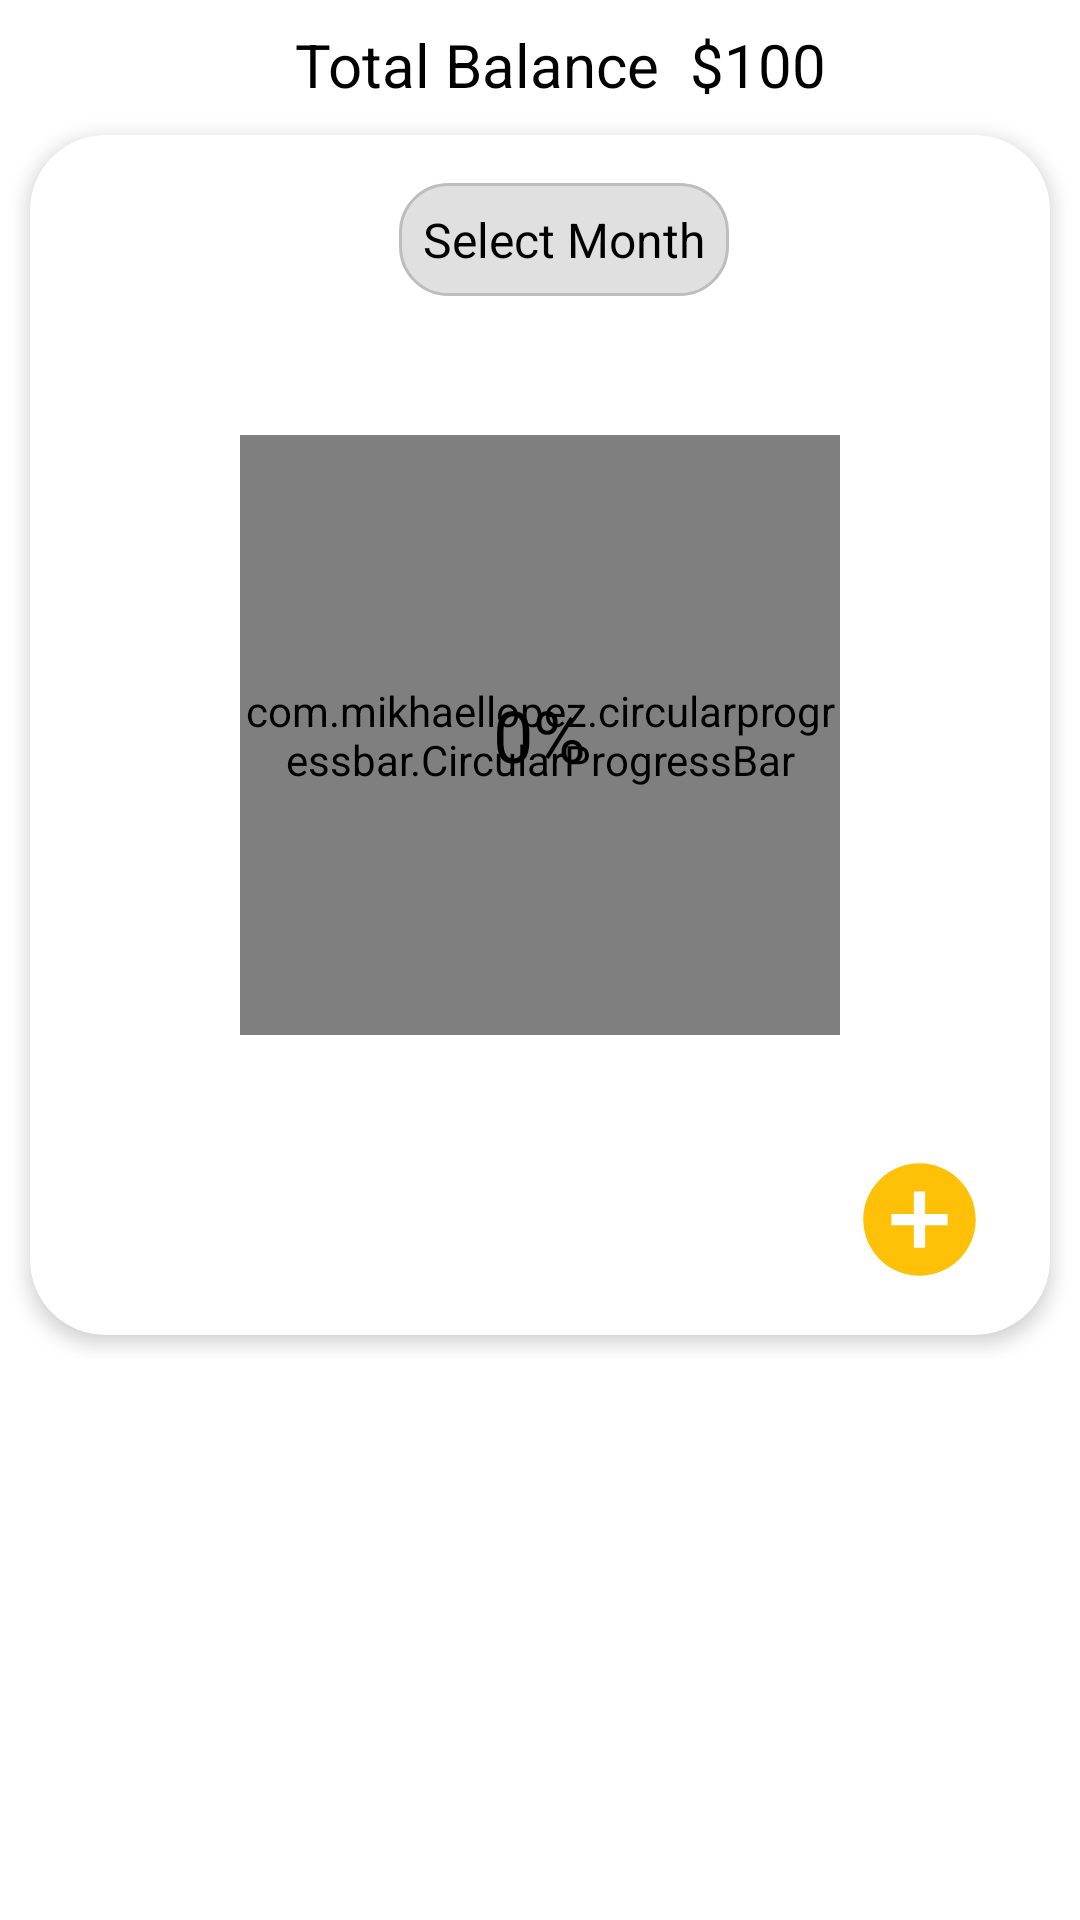

Where to tap for icons on this 1080px x 1920px app screen, as (x=x, y=y):
add circle: (x=919, y=1219)
